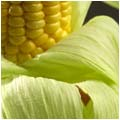corn: (1, 2, 72, 69)
